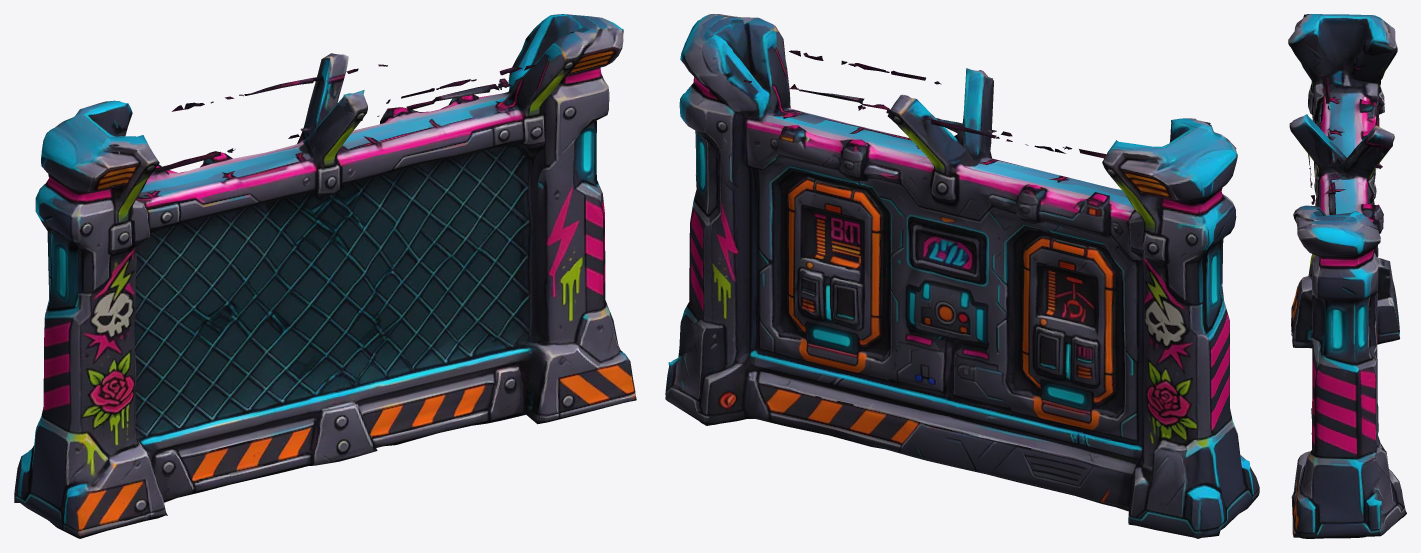
Rendered from GW_D03_security_fence.glb.
The picture shows the model from 3 angles, left to right: view 1: azimuth 30°, elevation 25°; view 2: azimuth 150°, elevation 25°; view 3: azimuth 270°, elevation 25°; orthographic projection. The views are drawn at different scales.
Parts seen in each view (by area): view 1: tripo_node_0368c755-5104-439f-87d9-e5af5cebc23f; view 2: tripo_node_0368c755-5104-439f-87d9-e5af5cebc23f; view 3: tripo_node_0368c755-5104-439f-87d9-e5af5cebc23f.
Part boxes in pixels (box(x1,y1,x2,y2)): tripo_node_0368c755-5104-439f-87d9-e5af5cebc23f: box(14, 14, 636, 538); tripo_node_0368c755-5104-439f-87d9-e5af5cebc23f: box(665, 14, 1259, 538); tripo_node_0368c755-5104-439f-87d9-e5af5cebc23f: box(1288, 14, 1406, 538).
Size of the model in its own units: 0.9924 by 0.6229 by 0.2124.
1 material, 1 textured.
